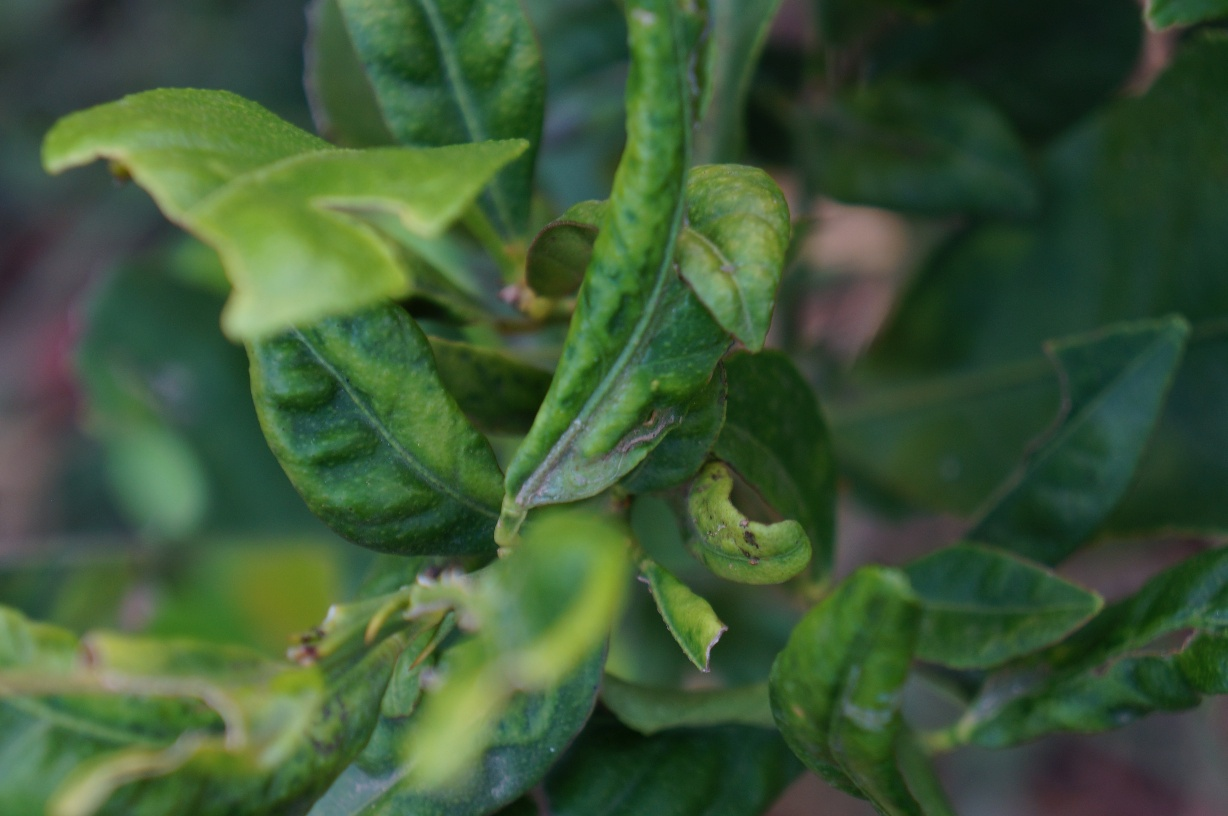curly: (485, 0, 764, 557), (669, 456, 820, 593)
damage: (516, 399, 686, 512)
